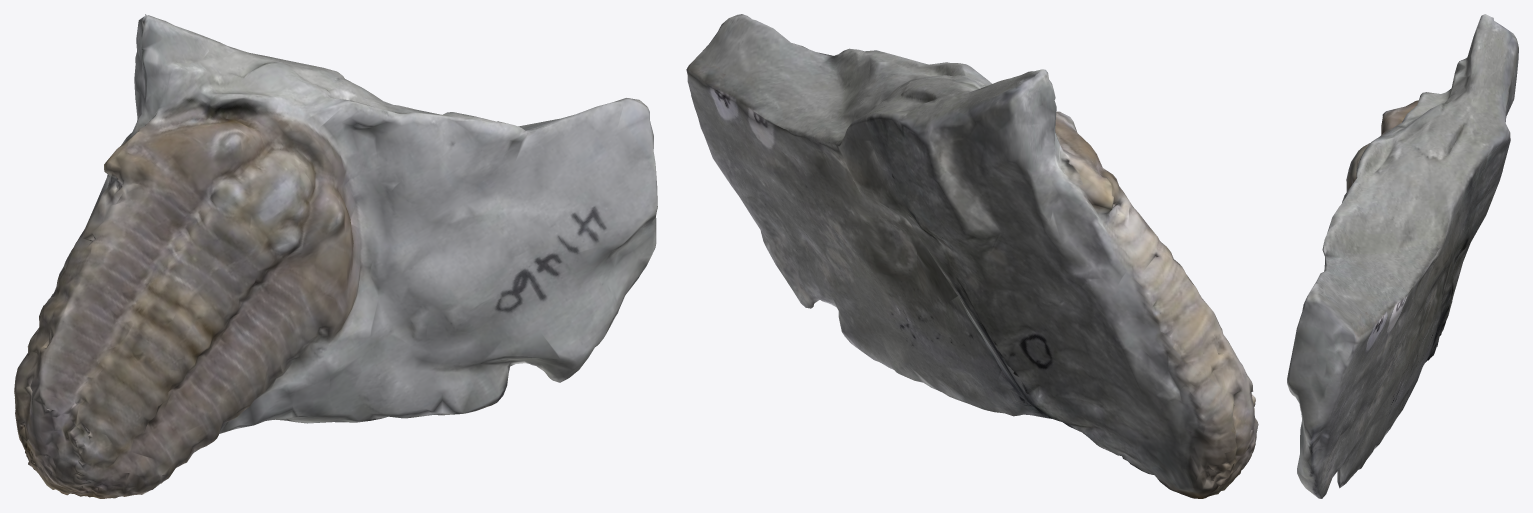
Rendered from trilobite.glb.
3 views of the same model, side by side, from view 1: azimuth 30°, elevation 25°; view 2: azimuth 150°, elevation 25°; view 3: azimuth 270°, elevation 25° (orthographic). The views are drawn at different scales.
Bounding box in the file's own units: 2.76 × 1.91 × 1.05.
Materials: 1 (1 with a texture image).
